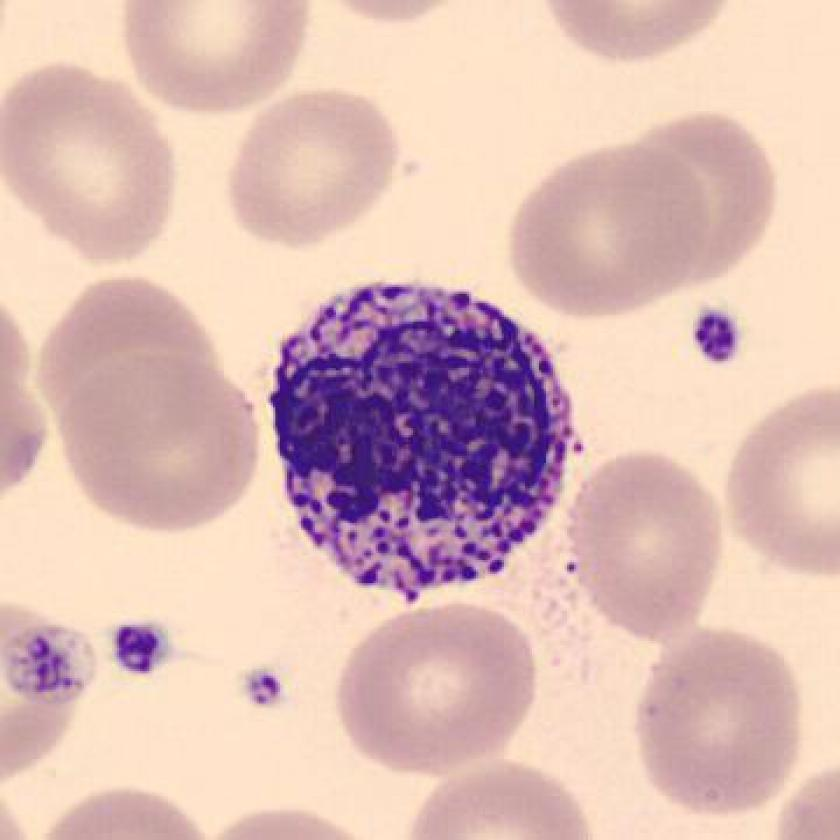basophil: (272, 269, 577, 598)
